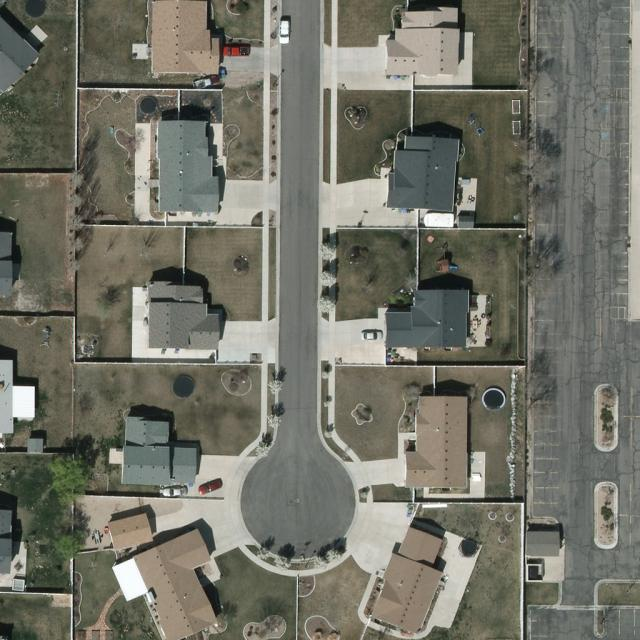vehicle: (190, 74, 222, 93), (196, 478, 225, 497), (162, 486, 188, 499), (222, 46, 251, 56), (280, 21, 290, 45), (361, 332, 384, 342)
